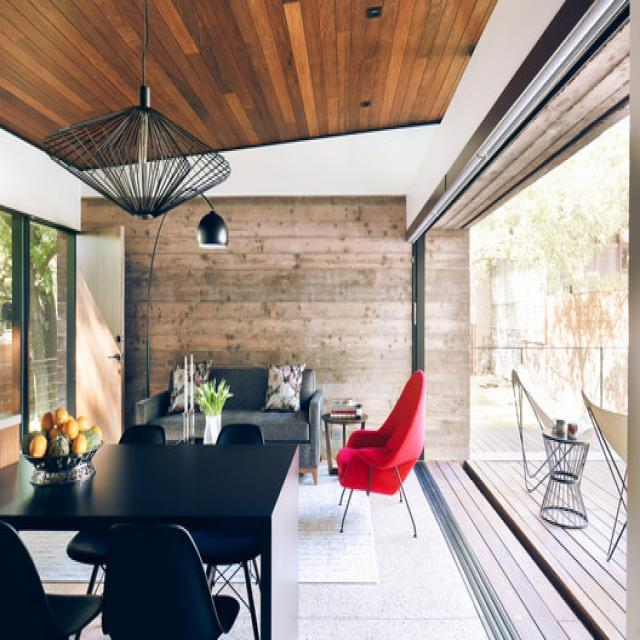couch: (335, 368, 426, 539)
